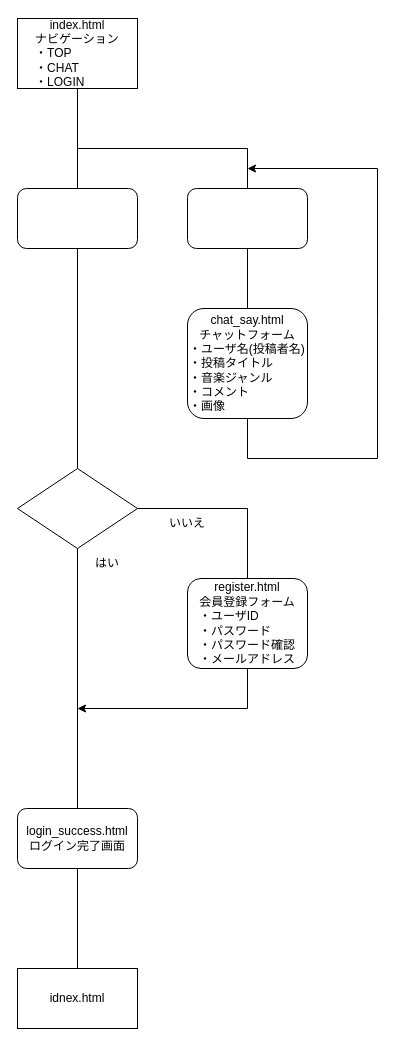
Image size: 403x1046. Some labels were removed from this diagram. The shapes that lost their labels are listed below. From the top down, each one's centre as x and y in pixels, then its label:
At (x=77, y=218): "login.html ログイン画面 ・ID ・パスワード".
At (x=247, y=218): "chat.html チャット機能 ・発言一覧".
At (x=77, y=508): "アカウント 所有してる？".
